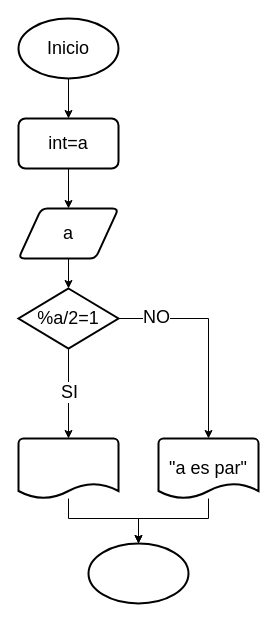
Some shapes in this 276 by 621 pixel diagram are drawn without their labels. Each missing label, with the centre of its shape:
"a es impar": point (68, 468)
FIN: point (138, 573)
